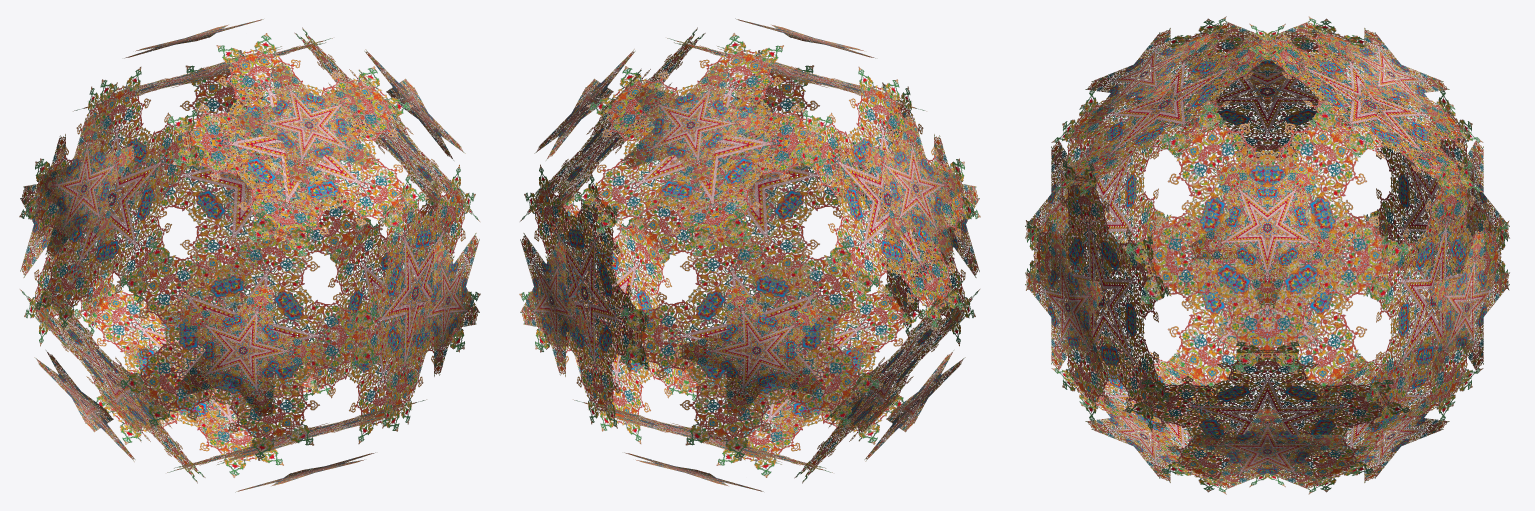
File: Icosidodecadodecahedron4.gltf
The picture shows the model from 3 angles, left to right: view 1: azimuth 30°, elevation 25°; view 2: azimuth 150°, elevation 25°; view 3: azimuth 270°, elevation 25°; orthographic projection. The views are drawn at different scales.
Parts seen in each view (by area): view 1: Icosidodecadodecahedron4; view 2: Icosidodecadodecahedron4; view 3: Icosidodecadodecahedron4.
Boxes of the visible parts, box(x1,y1,x2,y2) form: Icosidodecadodecahedron4: box(19, 19, 480, 492); Icosidodecadodecahedron4: box(519, 18, 980, 491); Icosidodecadodecahedron4: box(1025, 16, 1509, 494).
Bounding box in the file's own units: 2.62 × 2.62 × 2.62.
Materials: 1 (1 with a texture image).
